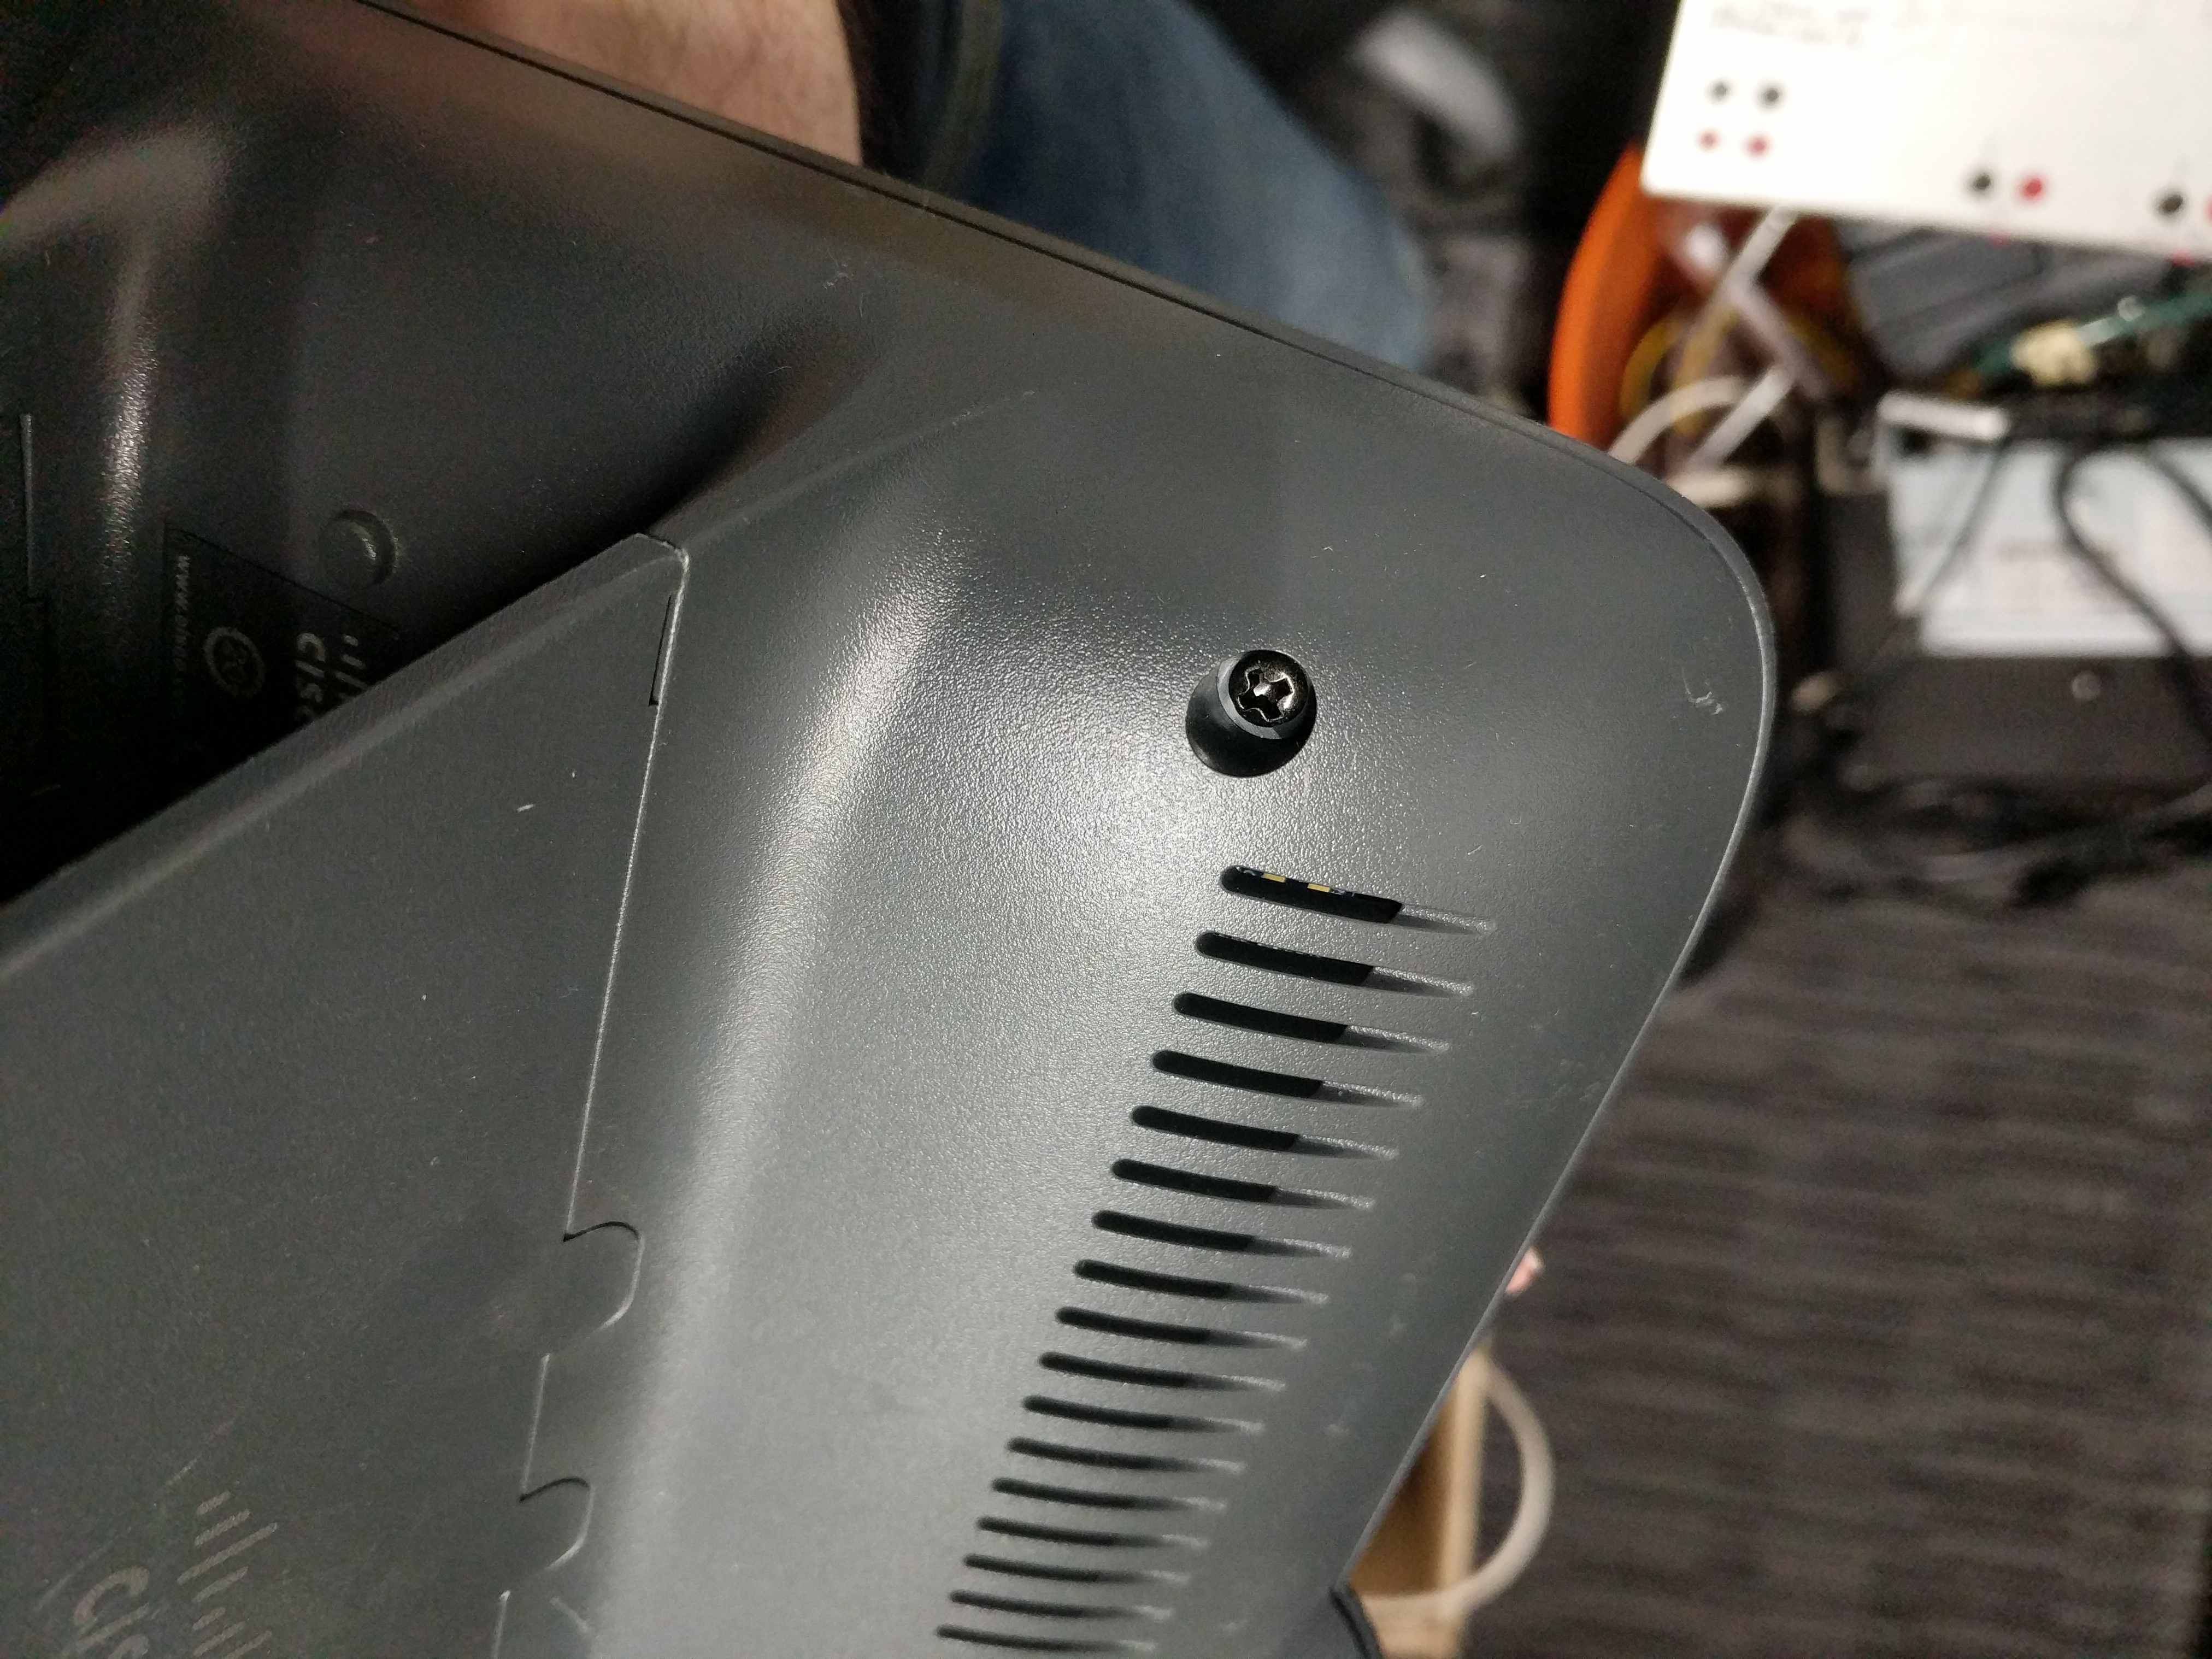cross_recessed_screw: (1212, 643, 1318, 749)
